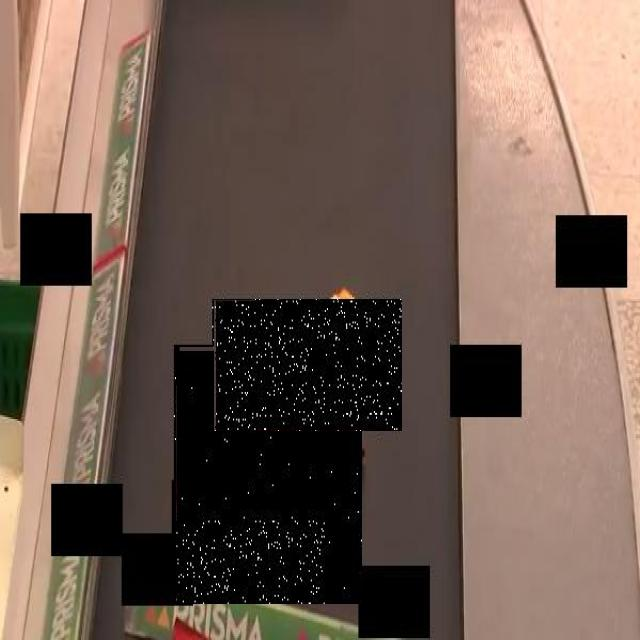food-box: (175, 346, 362, 604), (213, 299, 402, 431)
